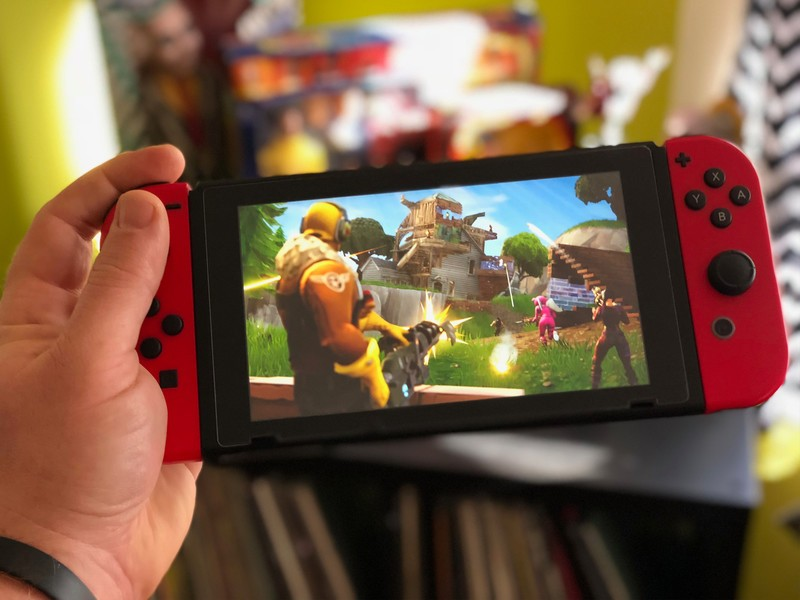NintendoSwitch: (100, 131, 791, 474)
